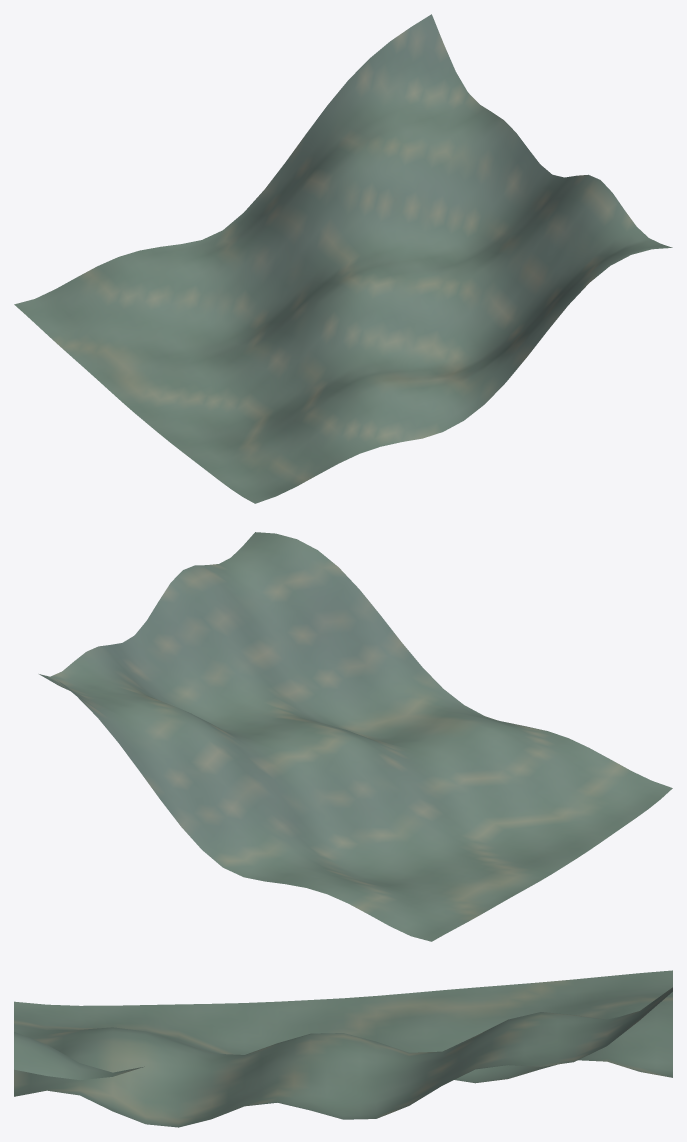
File: ridge_0_0.glb
3 renders of one model, top to bottom at view 1: azimuth 30°, elevation 25°; view 2: azimuth 150°, elevation 25°; view 3: azimuth 270°, elevation 25°, orthographic. The views are drawn at different scales.
Size of the model in its own units: 220 by 109 by 220.
